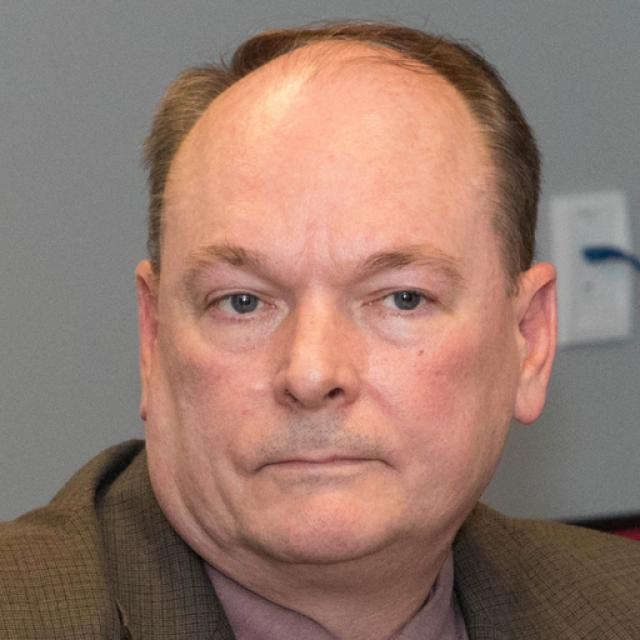neutral: (155, 92, 518, 564)
